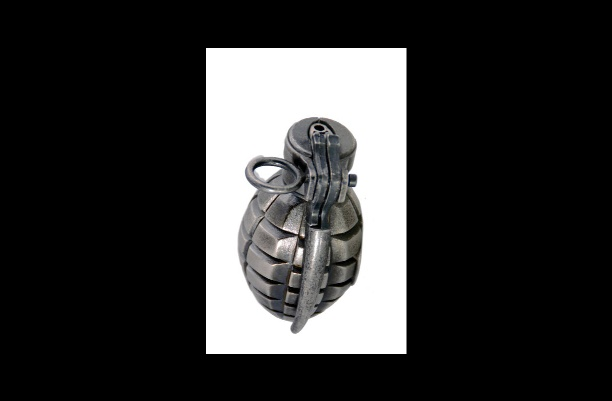e1: (237, 118, 362, 327)
